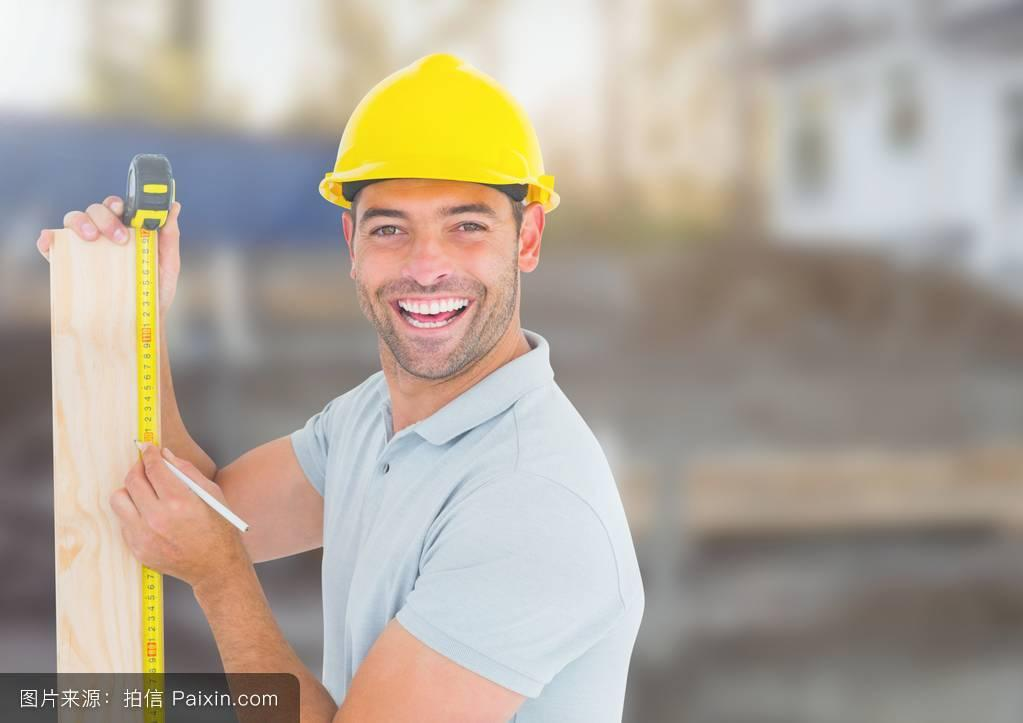helmet: (323, 52, 560, 214)
